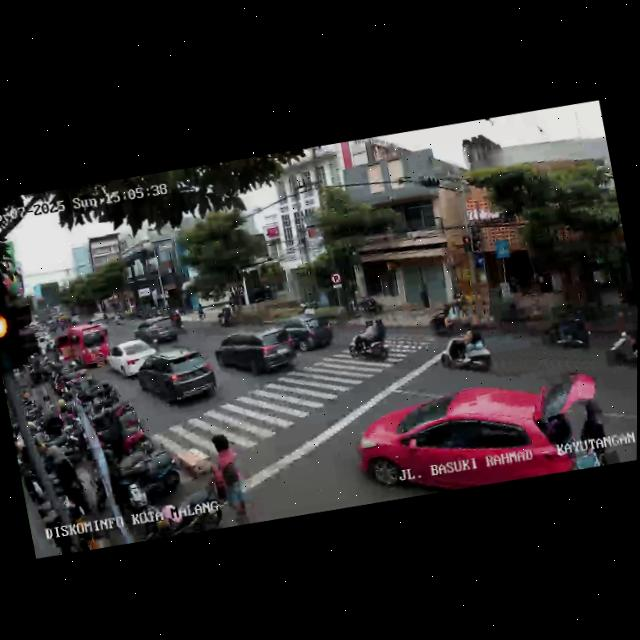car: (349, 360, 614, 512), (210, 318, 305, 389), (134, 340, 221, 414), (52, 320, 112, 376), (282, 301, 337, 358), (104, 335, 162, 383), (131, 313, 179, 350)
motorcycle: (435, 321, 498, 383), (342, 313, 398, 375), (538, 303, 594, 360), (598, 318, 638, 377), (216, 304, 234, 331), (174, 309, 187, 332)
person: (201, 430, 255, 527)
